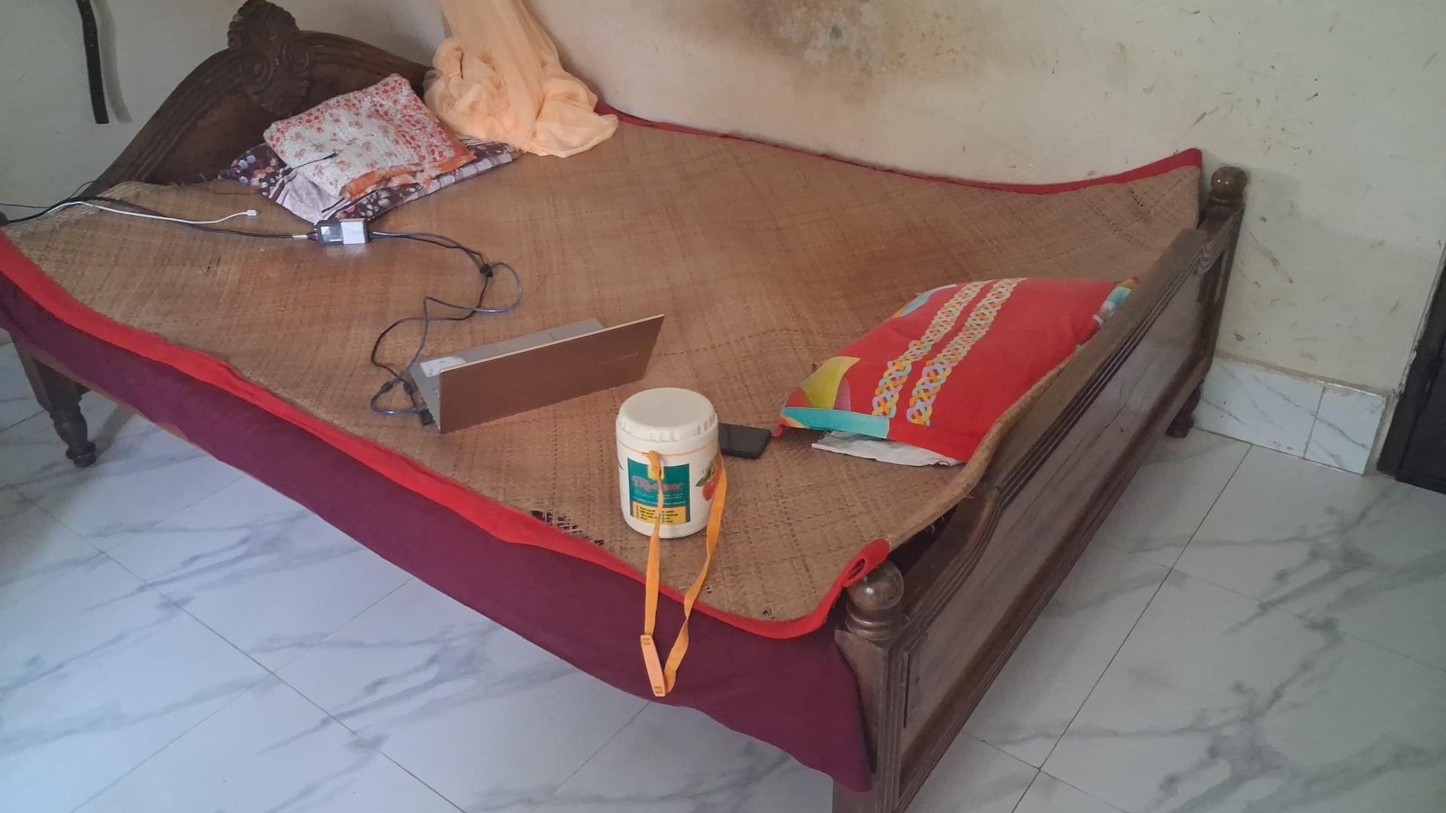Blanket: (263, 79, 479, 195)
Jar: (613, 396, 728, 537)
Laptop: (410, 307, 666, 435)
Pillow: (780, 276, 1126, 468)
